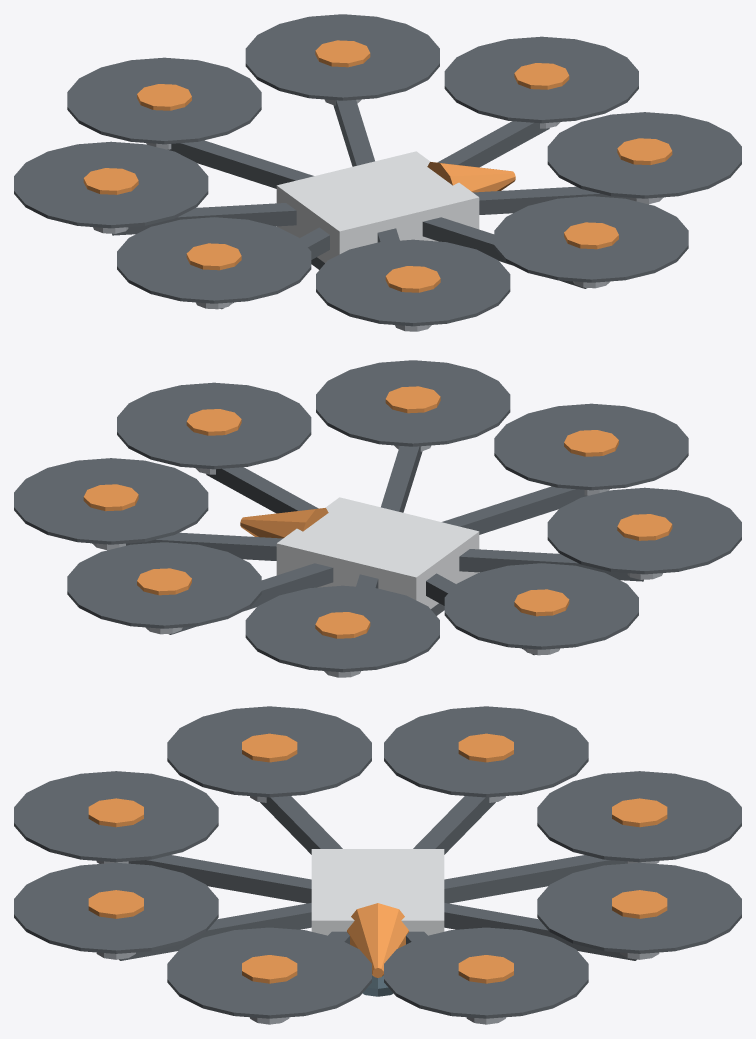
The model's file is octocopter.glb.
3 renders of one model, top to bottom at view 1: azimuth 30°, elevation 25°; view 2: azimuth 150°, elevation 25°; view 3: azimuth 270°, elevation 25°, orthographic. The views are drawn at different scales.
Size of the model in its own units: 3.87 by 0.595 by 3.85.
